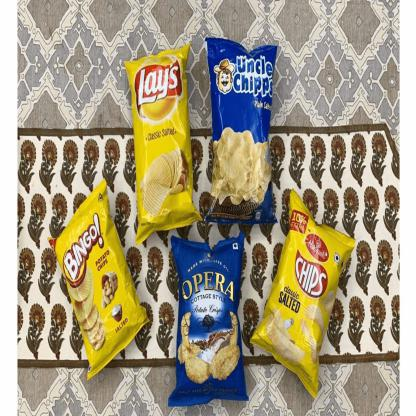classicsalted: (123, 41, 203, 239)
